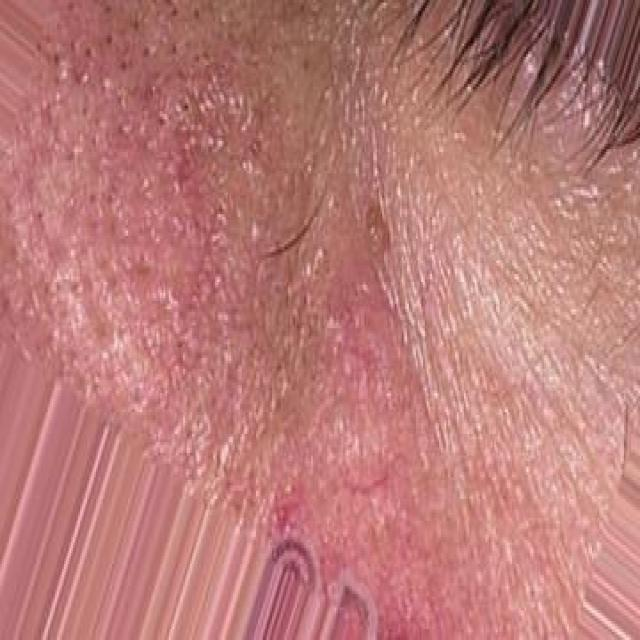Rosacea: (13, 53, 414, 503)
